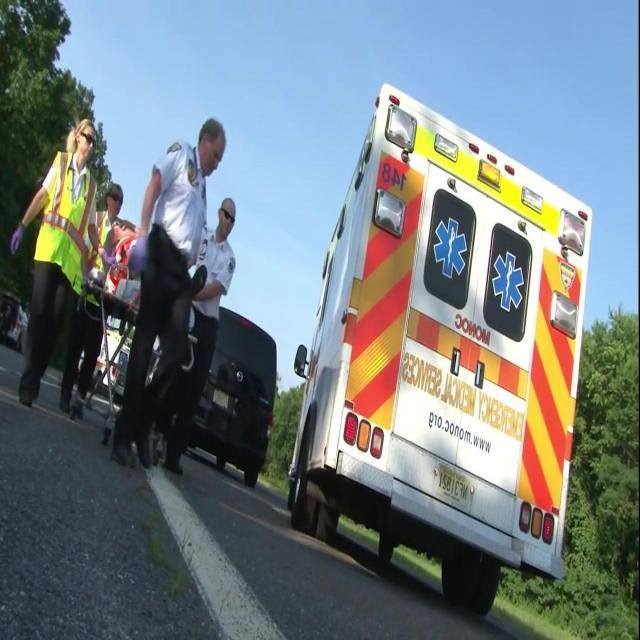reflective_jacket: (25, 149, 99, 307)
